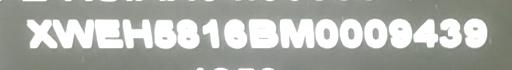letter: (52, 15, 96, 51), (22, 15, 60, 52), (278, 15, 316, 51), (247, 14, 281, 51), (461, 15, 495, 52), (92, 14, 124, 52), (120, 15, 154, 50), (174, 15, 202, 51), (436, 14, 462, 52), (386, 16, 414, 51), (222, 14, 248, 51), (412, 17, 440, 51), (314, 16, 340, 51), (362, 16, 388, 50), (152, 15, 176, 51), (338, 18, 364, 50), (200, 17, 222, 51)
